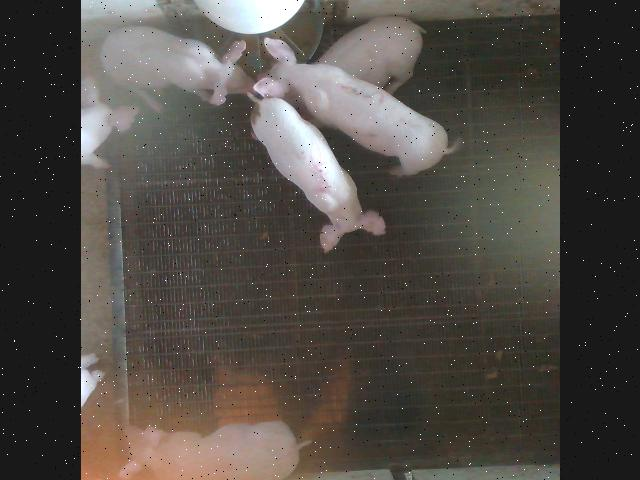pig-3: (252, 40, 455, 175)
pig-4: (119, 421, 306, 480)
pig-5: (248, 94, 382, 251)
